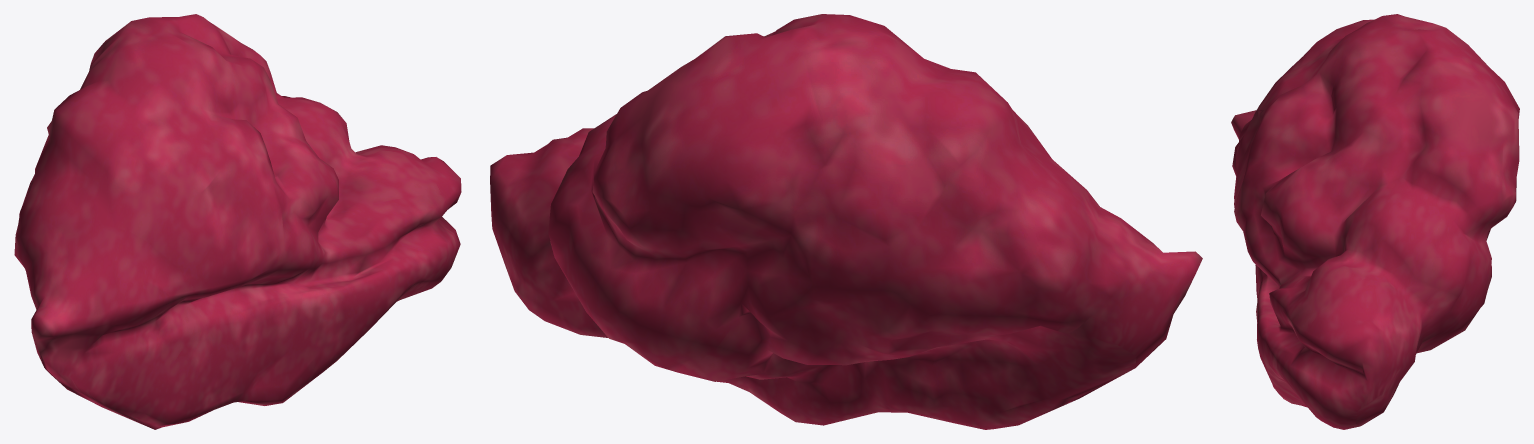
Rendered from SM_e_202_DemonMeatParts_03a.fbx.
3 views of the same model, side by side, from view 1: azimuth 30°, elevation 25°; view 2: azimuth 150°, elevation 25°; view 3: azimuth 270°, elevation 25° (orthographic). The views are drawn at different scales.
Visible parts, largest first — view 1: SM_e_202_DemonMeatParts_03a.001; view 2: SM_e_202_DemonMeatParts_03a.001; view 3: SM_e_202_DemonMeatParts_03a.001.
Boxes of the visible parts, x1=… form: SM_e_202_DemonMeatParts_03a.001: x1=14, y1=14, x2=461, y2=429; SM_e_202_DemonMeatParts_03a.001: x1=490, y1=14, x2=1202, y2=429; SM_e_202_DemonMeatParts_03a.001: x1=1231, y1=14, x2=1519, y2=429.
Size of the model in its own units: 6.28 by 4.46 by 3.36.
1 material, 1 textured.
